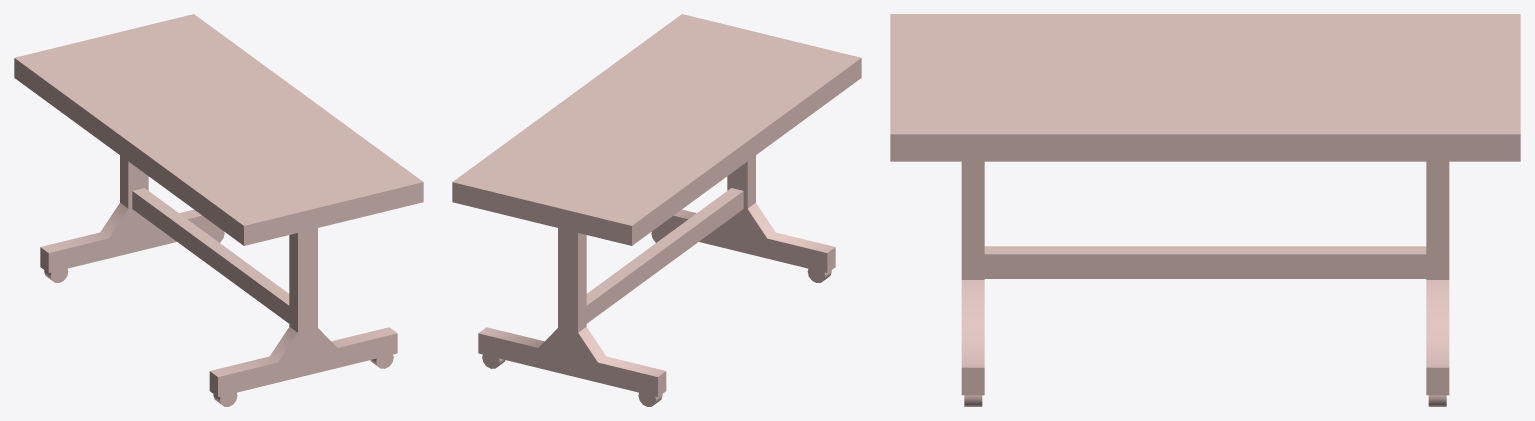
Rendered from Mesa Simples.fbx.
3 renders of one model, left to right at view 1: azimuth 30°, elevation 25°; view 2: azimuth 150°, elevation 25°; view 3: azimuth 270°, elevation 25°, orthographic. The views are drawn at different scales.
Visible parts, largest first — view 1: Mesa; view 2: Mesa; view 3: Mesa.
Boxes of the visible parts, x1,y1,x2,y2 form: Mesa: (14,14,423,406); Mesa: (452,14,861,406); Mesa: (890,14,1520,406).
Size of the model in its own units: 200 by 217 by 443.
